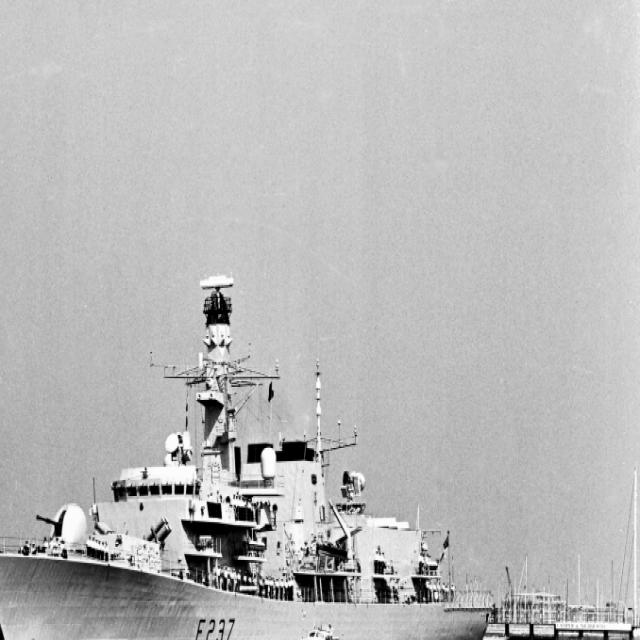Fragata: (1, 255, 499, 640)
